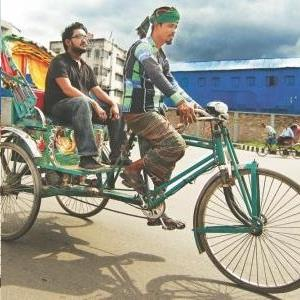Rickshaw: (3, 25, 299, 255)
